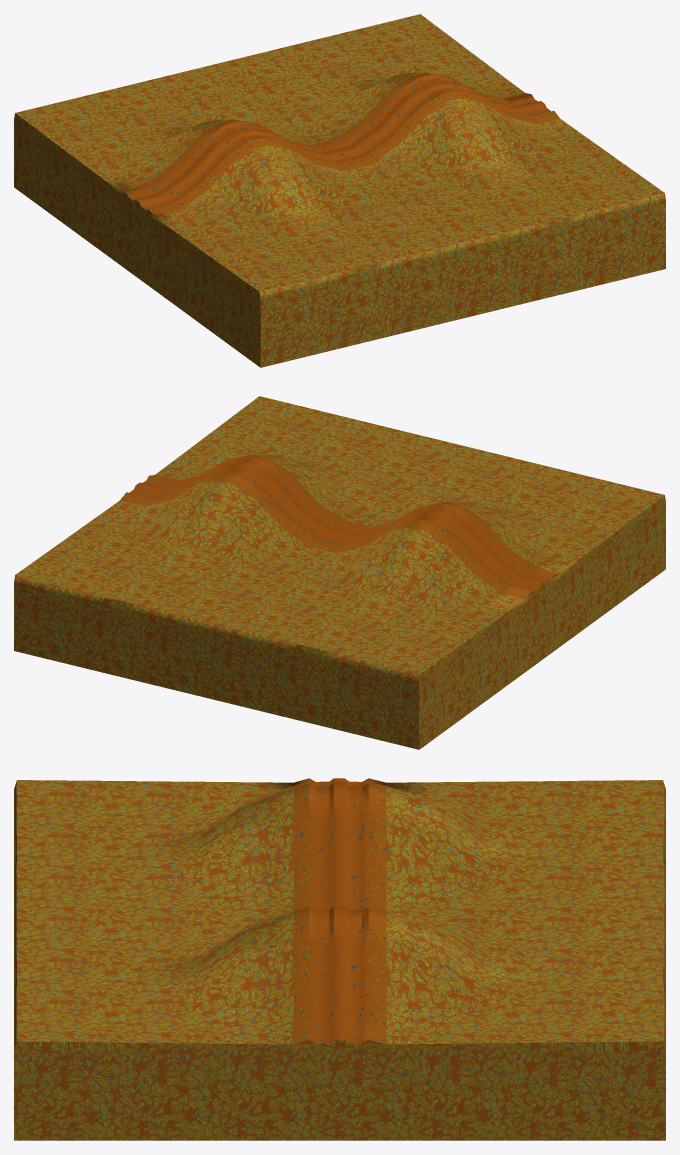
File: Road_grooves_bumps .fbx
The picture shows the model from 3 angles, top to bottom: view 1: azimuth 30°, elevation 25°; view 2: azimuth 150°, elevation 25°; view 3: azimuth 270°, elevation 25°; orthographic projection. The views are drawn at different scales.
Visible parts, largest first — view 1: Mesh_Path_Straight7; view 2: Mesh_Path_Straight7; view 3: Mesh_Path_Straight7.
Boxes of the visible parts, x1,y1,x2,y2 form: Mesh_Path_Straight7: [14, 14, 665, 367]; Mesh_Path_Straight7: [14, 396, 665, 749]; Mesh_Path_Straight7: [14, 778, 665, 1140].
Bounding box in the file's own units: 5588 × 1590 × 5890.
